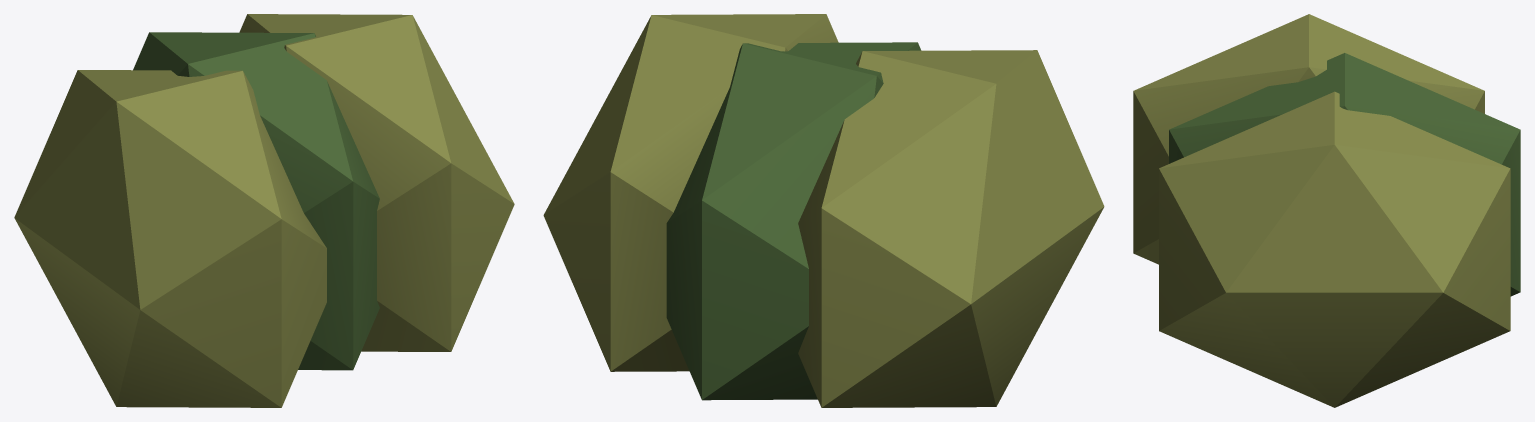
Rendered from shrub-fynbos-1.glb.
3 views of the same model, side by side, from view 1: azimuth 30°, elevation 25°; view 2: azimuth 150°, elevation 25°; view 3: azimuth 270°, elevation 25° (orthographic). The views are drawn at different scales.
Parts seen in each view (by area): view 1: shrub-fynbos-1; view 2: shrub-fynbos-1; view 3: shrub-fynbos-1.
Part boxes in pixels (bbox=[...]): shrub-fynbos-1: bbox=[14, 14, 514, 407]; shrub-fynbos-1: bbox=[543, 14, 1104, 407]; shrub-fynbos-1: bbox=[1133, 14, 1520, 407].
Size of the model in its own units: 2 by 1.5 by 2.
